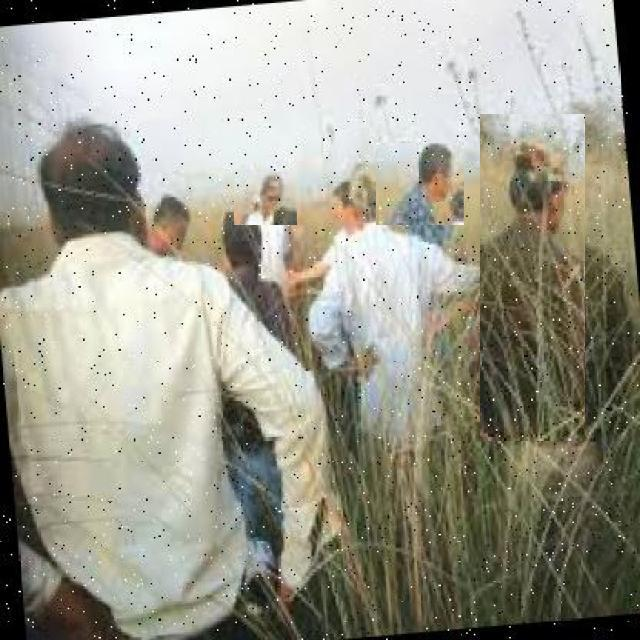poacher: (8, 123, 344, 545), (480, 114, 585, 441), (329, 163, 414, 383), (376, 143, 464, 225), (234, 172, 297, 225)
